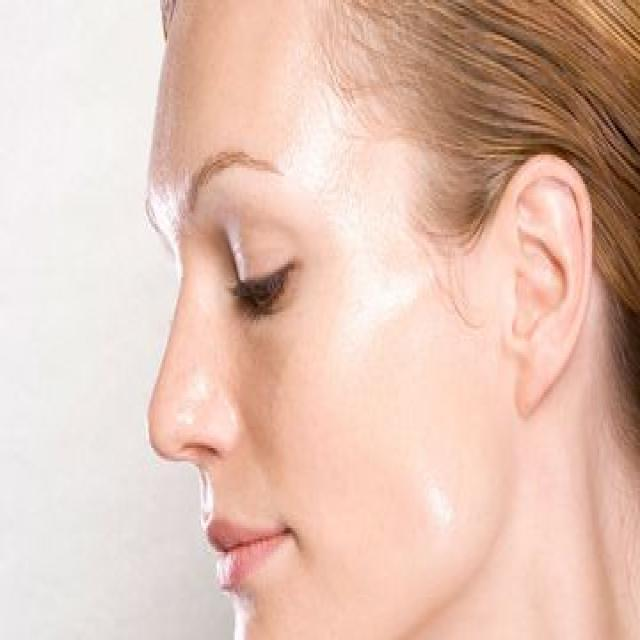oily: (326, 344, 478, 554)
